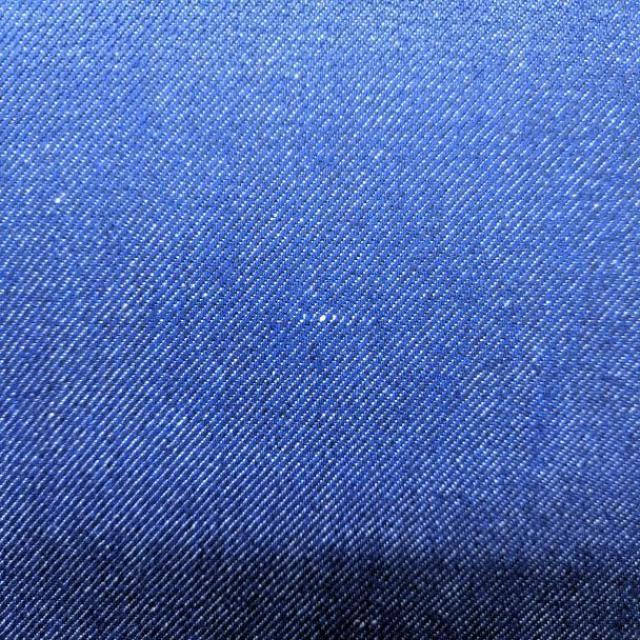Knot: (301, 312, 342, 324)
